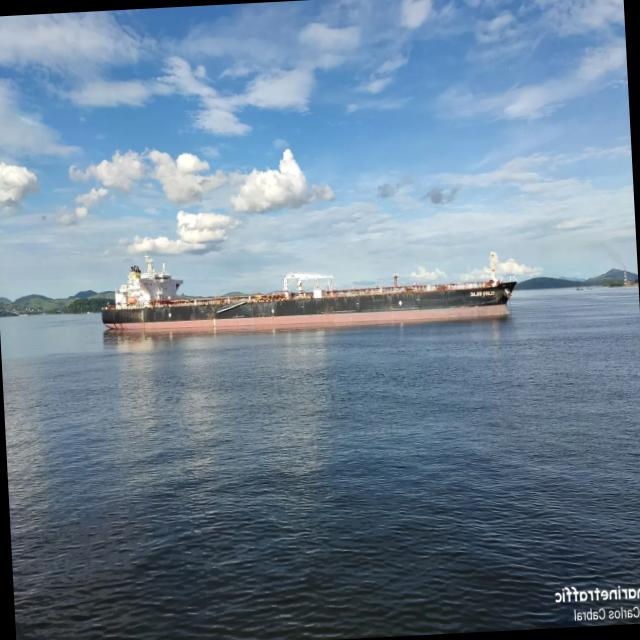Tanker: (102, 256, 517, 335)
